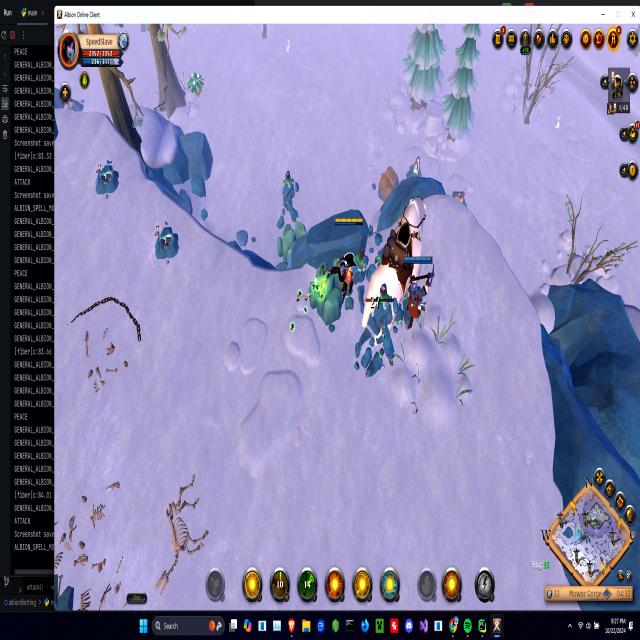hide: (186, 68, 205, 100)
ore: (353, 280, 402, 369)
player: (274, 167, 304, 229), (452, 184, 470, 215), (406, 154, 425, 183)
red: (332, 208, 370, 308), (398, 250, 437, 334)
tree: (305, 248, 350, 338), (274, 217, 310, 262), (373, 159, 402, 208)
